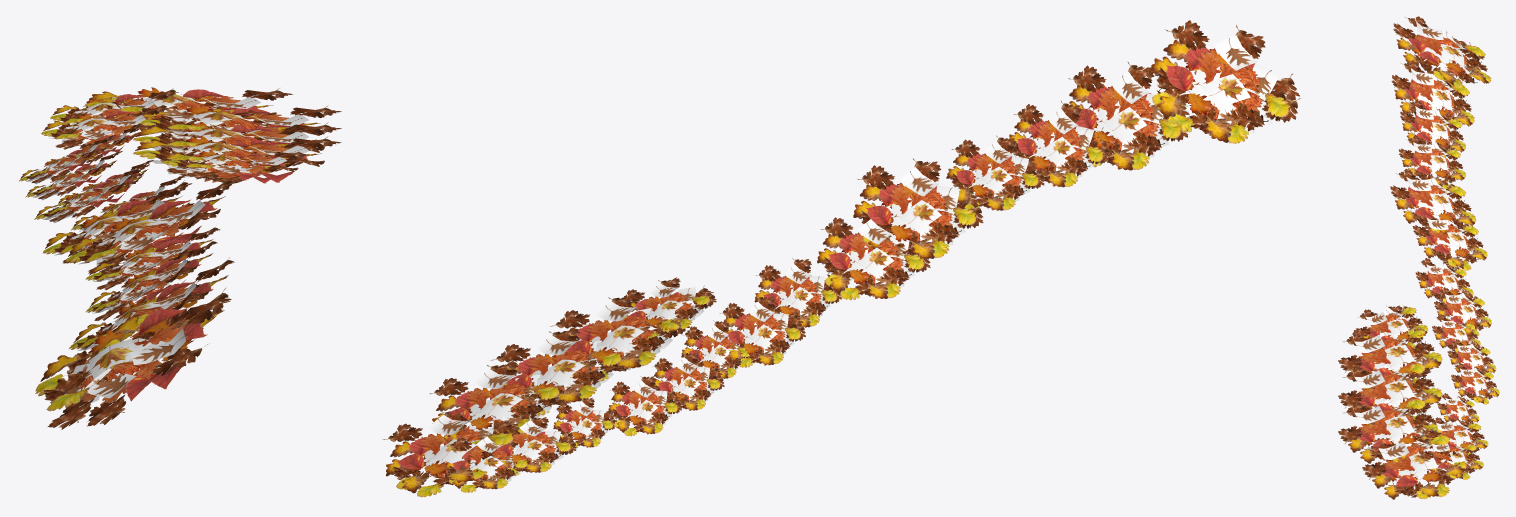
Rendered from BackgroundLeaves.obj.
The picture shows the model from 3 angles, left to right: view 1: azimuth 90°, elevation 25°; view 2: azimuth 210°, elevation 25°; view 3: azimuth 270°, elevation 25°; orthographic projection. The views are drawn at different scales.
Parts seen in each view (by area): view 1: Background_leaves; view 2: Background_leaves; view 3: Background_leaves.
Boxes of the visible parts, box(x1,y1,x2,y2) form: Background_leaves: box(19, 87, 341, 429); Background_leaves: box(382, 20, 1301, 497); Background_leaves: box(1338, 16, 1499, 499).
Bounding box in the file's own units: 1.05 × 0.2988 × 0.235.
